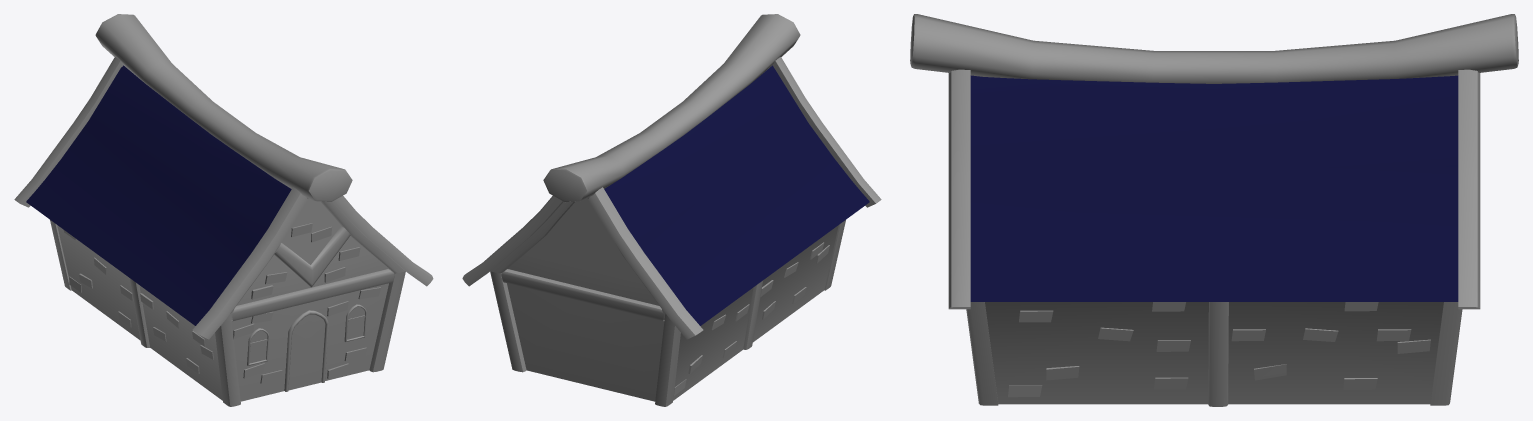
Rendered from herrero_bueno.fbx.
3 renders of one model, left to right at view 1: azimuth 30°, elevation 25°; view 2: azimuth 150°, elevation 25°; view 3: azimuth 270°, elevation 25°, orthographic. The views are drawn at different scales.
Parts seen in each view (by area): view 1: casa002, tejado_herrero, Object052; view 2: casa002, tejado_herrero, Object052; view 3: tejado_herrero, casa002, Object052.
Part boxes in pixels (x1,y1,x2,y2): casa002: (14,14,433,406); tejado_herrero: (26,65,291,325); Object052: (63,223,380,383); casa002: (462,14,881,406); tejado_herrero: (604,65,869,325); Object052: (673,242,829,395); tejado_herrero: (970,75,1458,301); casa002: (910,14,1518,406); Object052: (1008,302,1430,397).
Bounding box in the file's own units: 655 × 627 × 1035.
